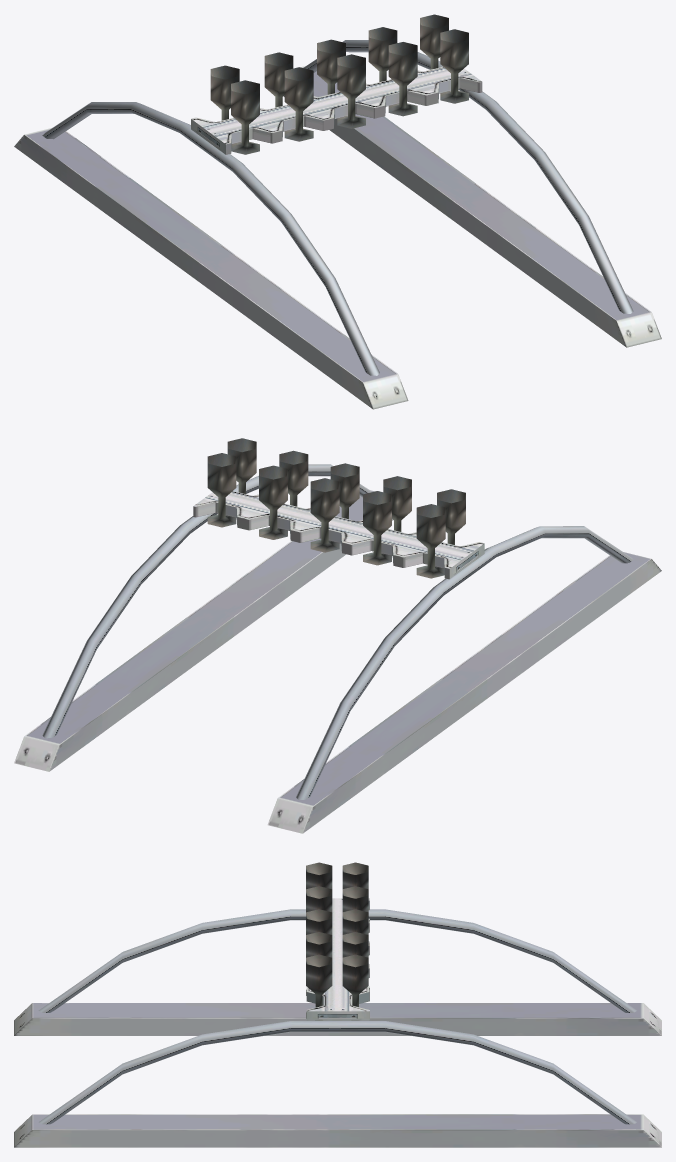
The model's file is hanging_wine_rack_chrome.fbx.
3 views of the same model, one above another, from view 1: azimuth 30°, elevation 25°; view 2: azimuth 150°, elevation 25°; view 3: azimuth 270°, elevation 25° (orthographic). The views are drawn at different scales.
Visible parts, largest first — view 1: mesh_0, mesh_1; view 2: mesh_0, mesh_1; view 3: mesh_0, mesh_1.
Boxes of the visible parts, x1,y1,x2,y2 form: mesh_0: (14, 40, 661, 409); mesh_1: (210, 14, 468, 154); mesh_0: (14, 464, 661, 833); mesh_1: (207, 438, 465, 578); mesh_0: (14, 898, 661, 1147); mesh_1: (306, 862, 368, 1020).
Size of the model in its own units: 99.9 by 62.25 by 215.
Materials: 2 (2 with a texture image).
